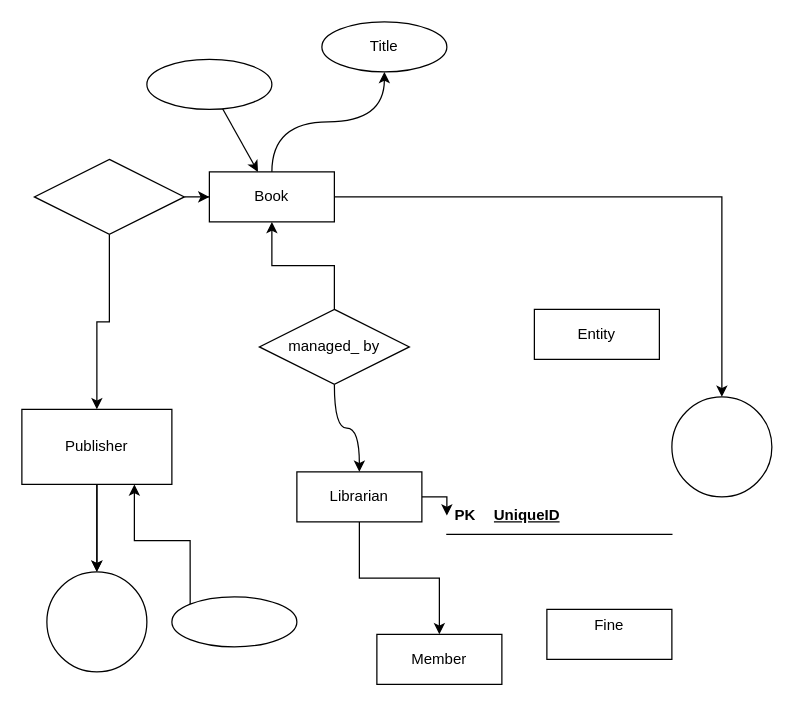
Some shapes in this 794 by 706 pixel diagram are drawn without their labels. Each missing label, with the centre of its shape:
"book_id" goes at point (209, 83).
"P_name" goes at point (96, 621).
"pid" goes at point (234, 621).
"Published by" goes at point (108, 196).
